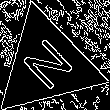N_SE: (15, 32, 79, 96)
